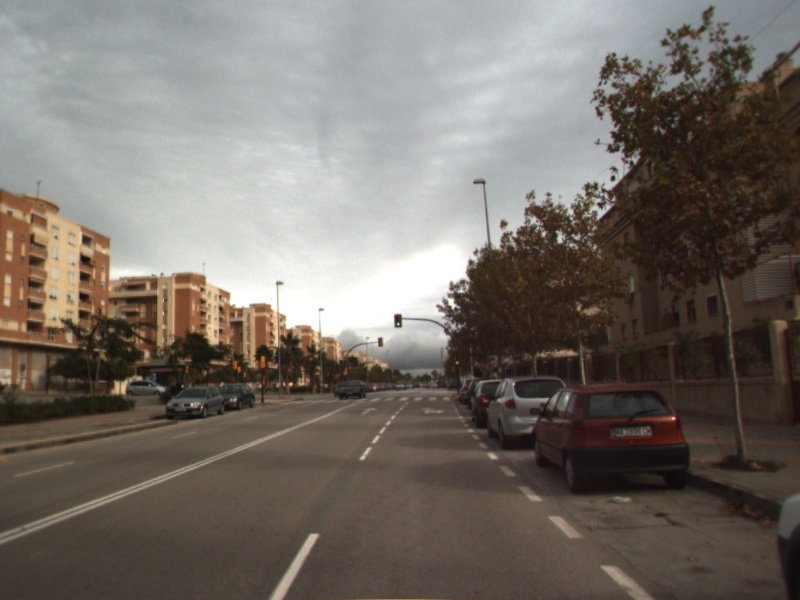STRAIGHT: (359, 404, 381, 417)
STRAIGHT_RIGHT: (419, 404, 447, 417)
